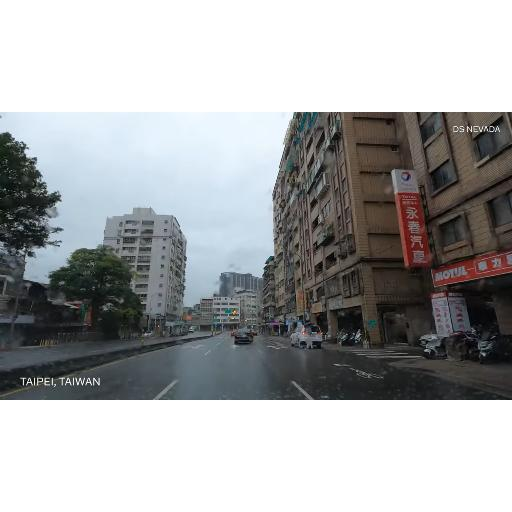Car: (288, 324, 324, 348), (418, 328, 446, 346), (234, 326, 256, 344), (143, 328, 155, 338)
